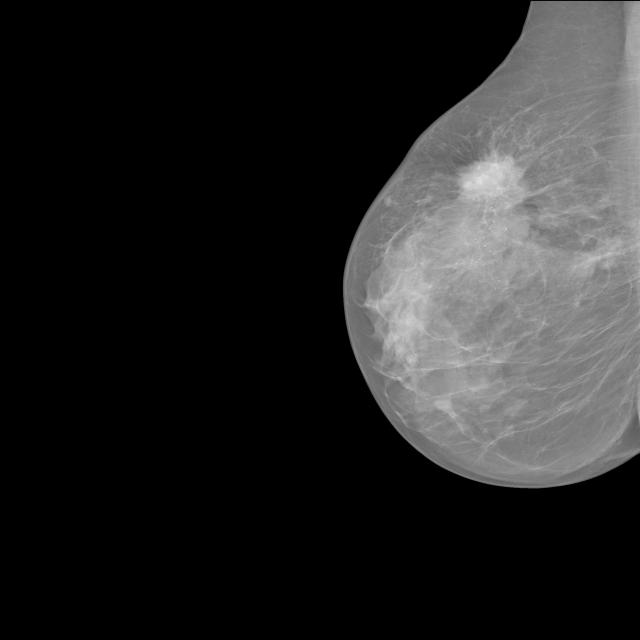Mass_1: (430, 136, 548, 218)
